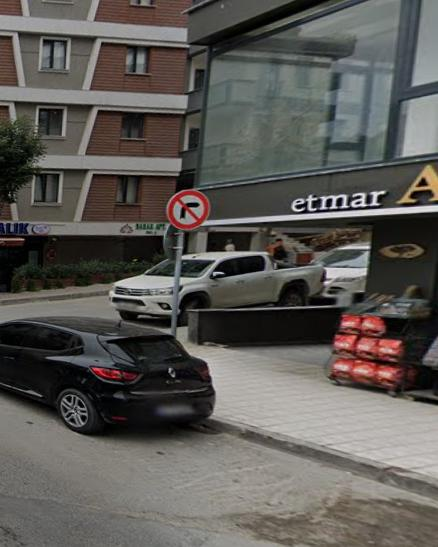rightturnsareforbidden: (160, 186, 215, 235)
